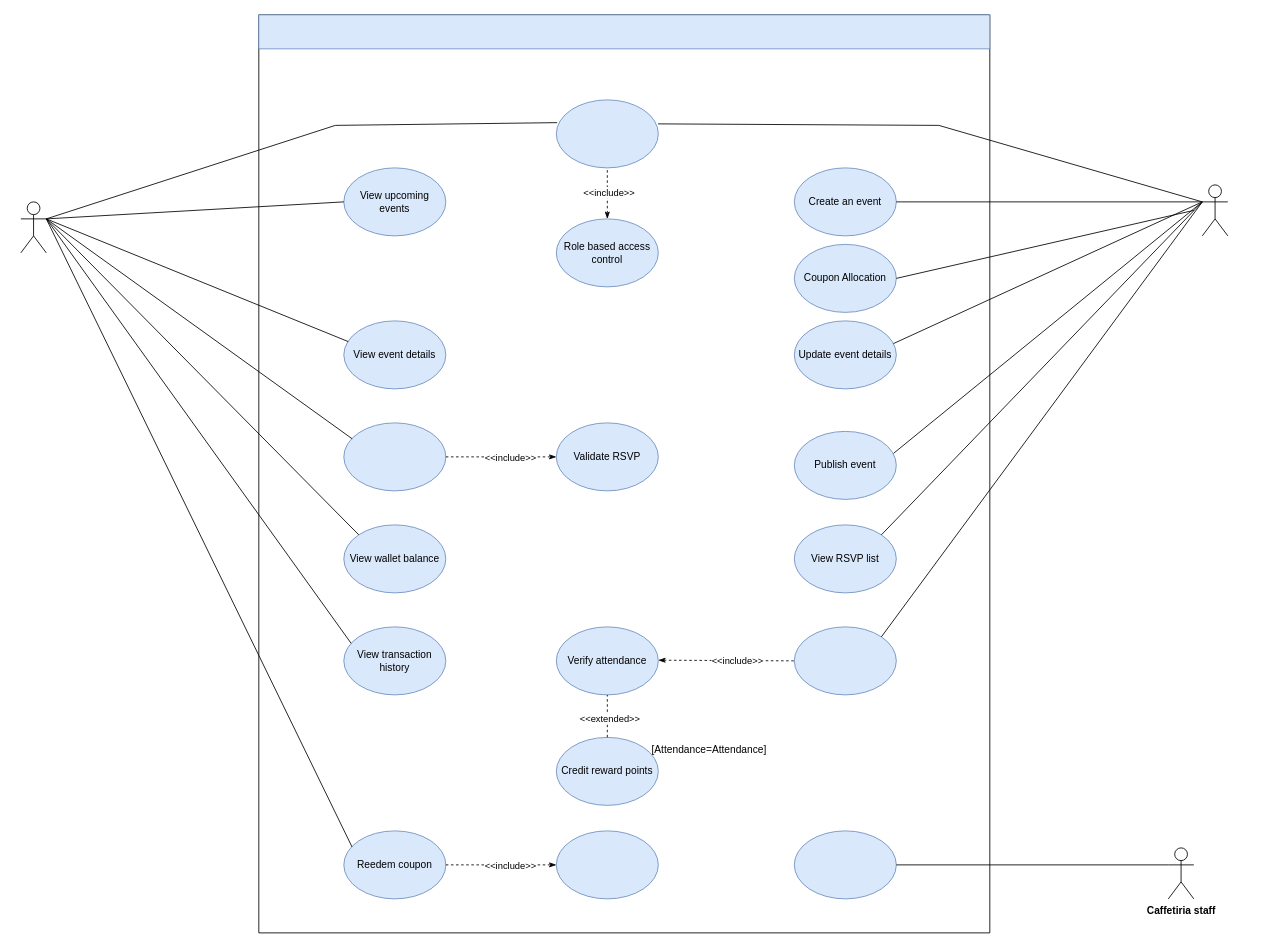
Some shapes in this 1278 by 948 pixel diagram are drawn without their labels. Each missing label, with the centre of its shape:
"Accept coupon redemption" belongs at (x=844, y=864).
"Authenticate User" belongs at (x=606, y=133).
"CAMPUS COUPON SYSTEM" belongs at (x=624, y=31).
"Event administrator" belongs at (x=1214, y=210).
"Record attendance" belongs at (x=844, y=660).
"RSVP to event" belongs at (x=394, y=456).
"Student" belongs at (x=33, y=227).
"Validate coupon balance" belongs at (x=606, y=864).
